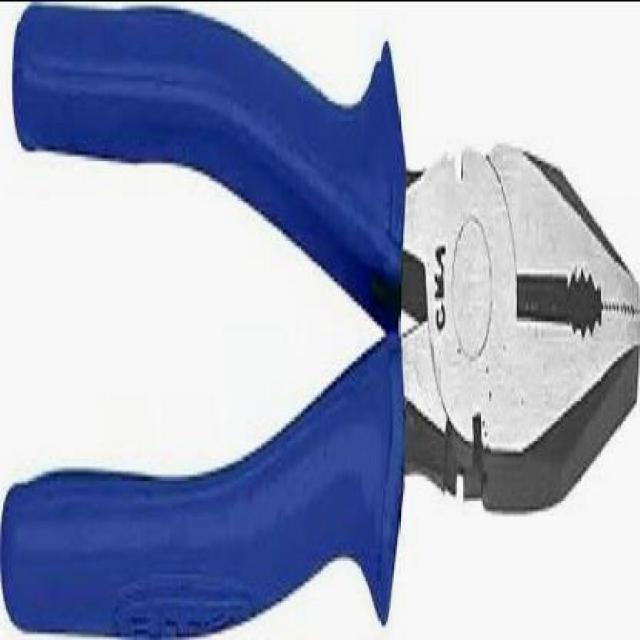pliers: (2, 13, 636, 638)
